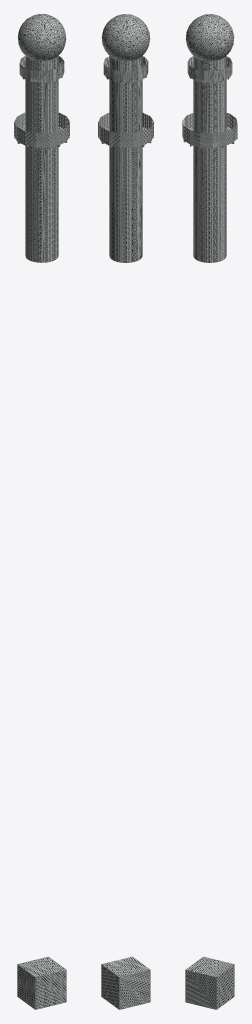
Rendered from Saatutka.gltf.
3 views of the same model, side by side, from view 1: azimuth 30°, elevation 25°; view 2: azimuth 210°, elevation 25°; view 3: azimuth 330°, elevation 25° (orthographic).
Visible parts, largest first — view 1: Opaque, Alpha; view 2: Opaque, Alpha; view 3: Opaque, Alpha.
Part boxes in pixels (left/top/right/bottom): Opaque: left=14, top=14, right=69, bottom=1009; Alpha: left=14, top=56, right=69, bottom=147; Opaque: left=98, top=14, right=153, bottom=1009; Alpha: left=98, top=56, right=153, bottom=147; Opaque: left=182, top=14, right=237, bottom=1009; Alpha: left=182, top=56, right=237, bottom=147.
Bounding box in the file's own units: 7.99 × 156 × 7.88.
